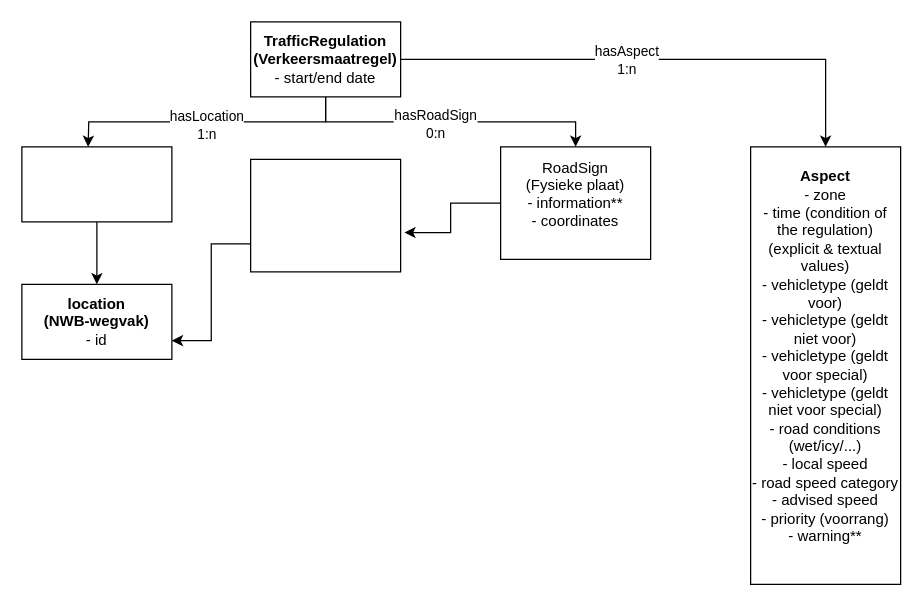
Image size: 923x606. Some labels were removed from this diagram. Each missing label, with the centre of its shape:
hasLocation - strooknummer - direction - placement (percentage): point (325, 215)
hasLocation - strooknummer - direction - werkingslengte: point (96, 184)
